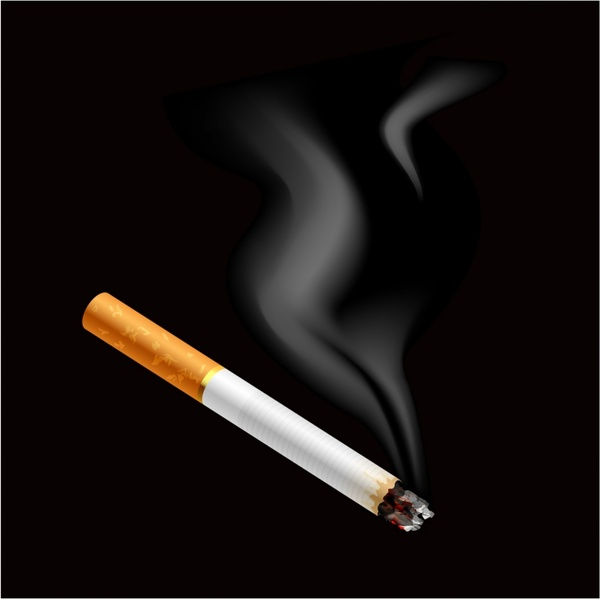cigarette: (65, 273, 442, 550)
